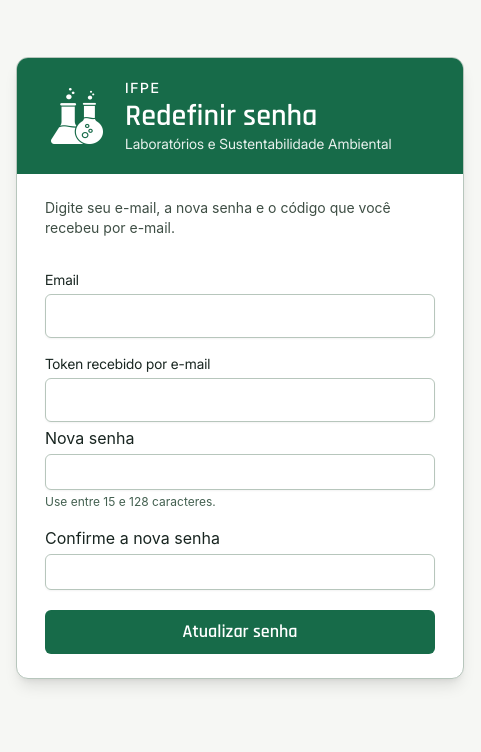
Scenario: ResetPassword › usa a espera generica quando o 429 nao tem prazo valido
Step 1. Type "usuario@example.org" into the field labelled "Email" → [240, 316], box [45,294,435,338]
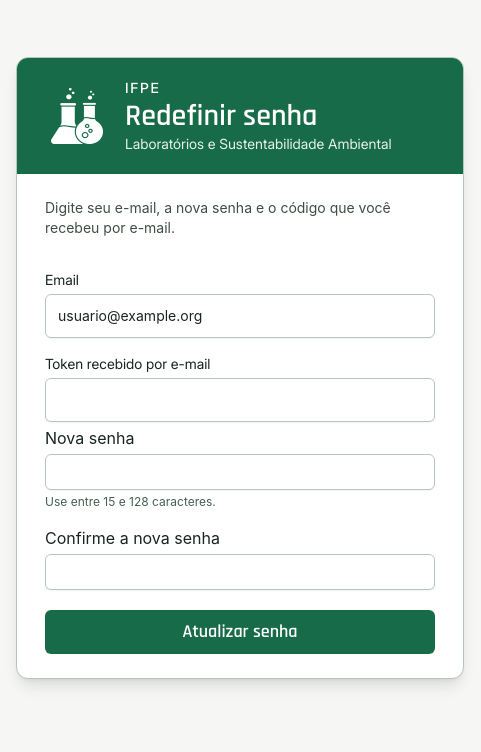
Step 2. Type "codigo-seguro" into the field labelled "Token recebido por e-mail" → [240, 400], box [45,378,435,422]
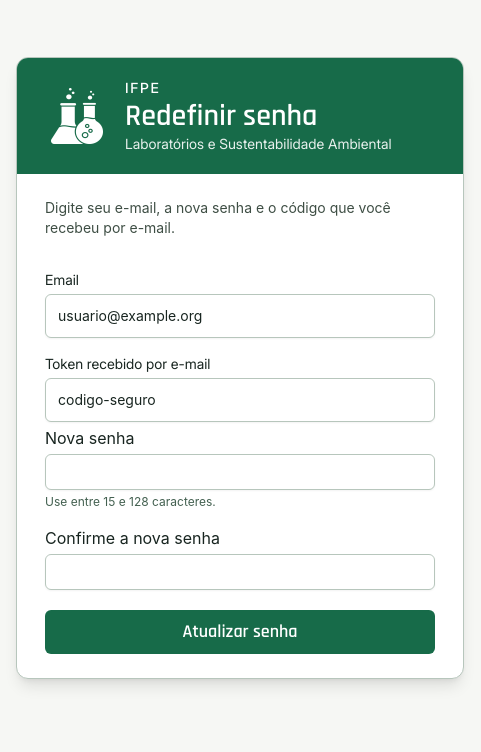
Step 3. Type "nova-senha-valida" into the password field labelled "Nova senha" → [240, 472], box [45,454,435,490]
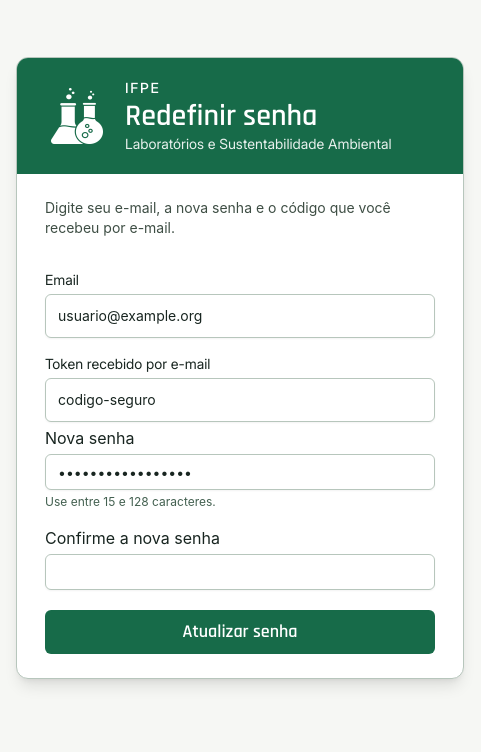
Step 4. Type "nova-senha-valida" into the password field labelled "Confirme a nova senha" → [240, 572], box [45,554,435,590]
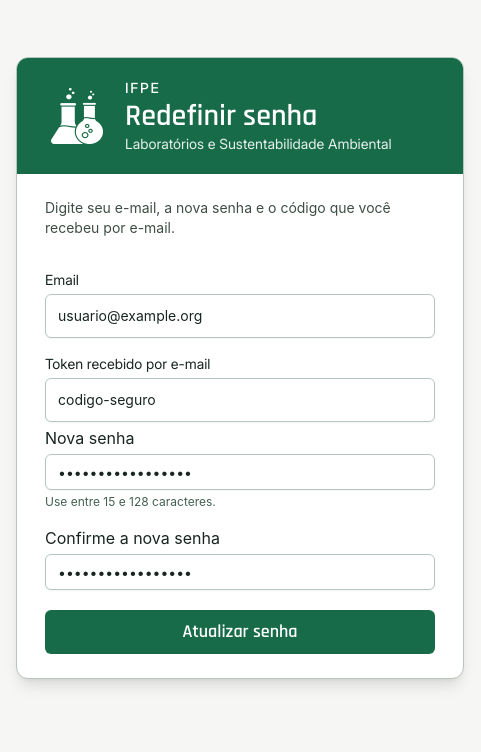
Step 5. Submit the form named "Atualizar senha", box [45,258,435,654]
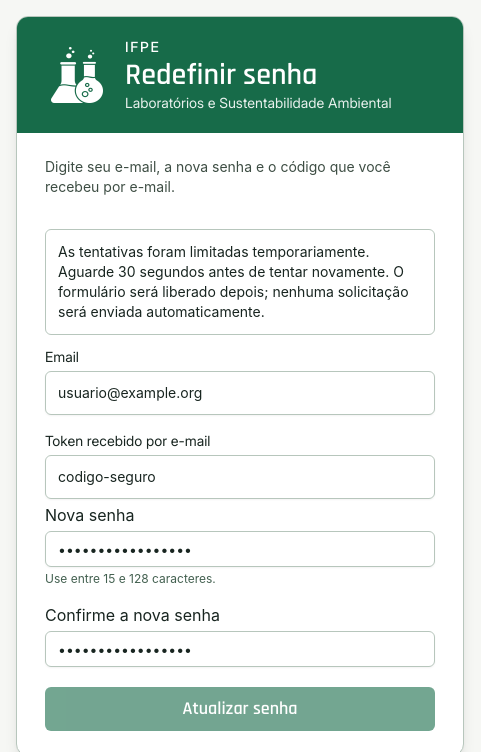
Expected: the message shows "Aguarde 30 segundos", [58,243,409,320]
Expected: the button "Atualizar senha" is disabled, [45,687,435,731]
